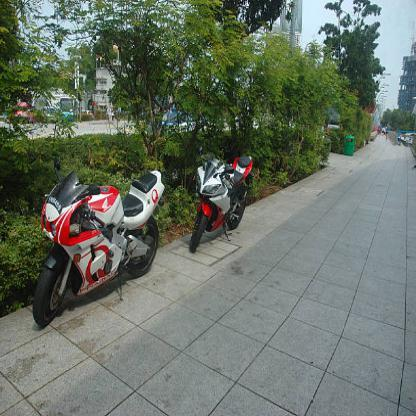Motorcycle: (26, 152, 164, 327), (187, 127, 258, 265)
